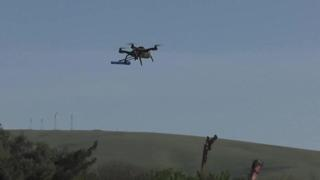UAV: (111, 43, 164, 66)
